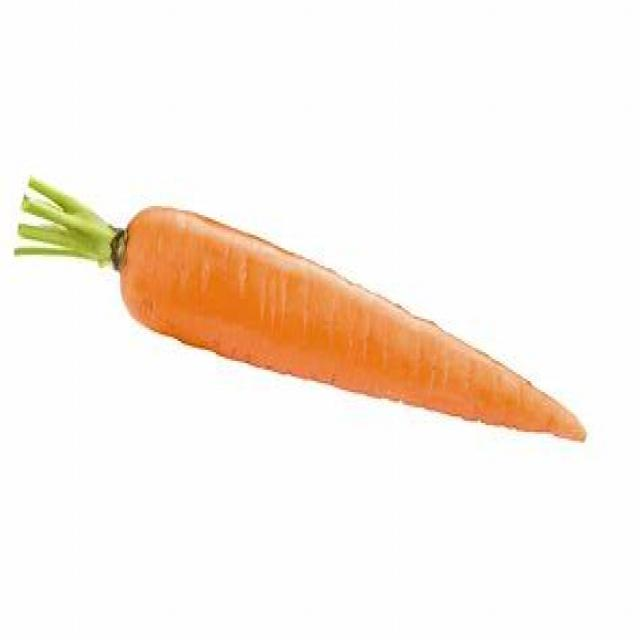Carrot: (17, 181, 586, 451)
